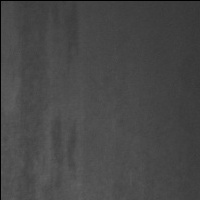inclusion: (9, 4, 53, 199), (43, 104, 82, 196), (59, 4, 83, 74)
